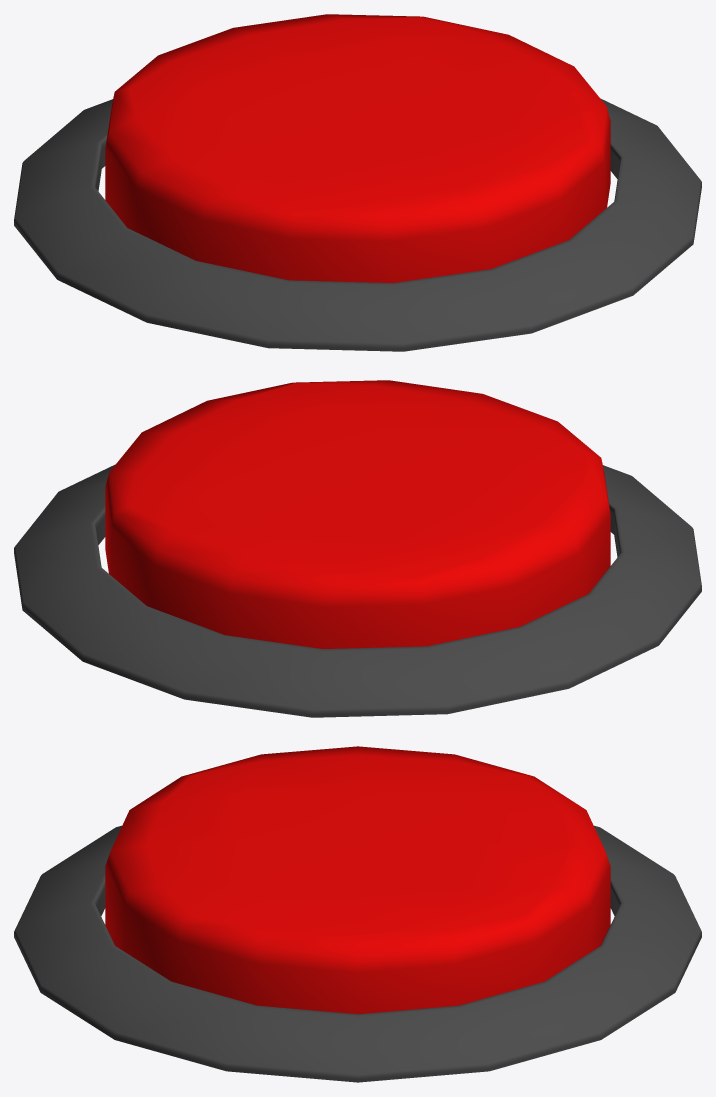
Rendered from Door-button.fbx.
3 views of the same model, one above another, from view 1: azimuth 30°, elevation 25°; view 2: azimuth 150°, elevation 25°; view 3: azimuth 270°, elevation 25° (orthographic).
Parts seen in each view (by area): view 1: Button, Button-side; view 2: Button, Button-side; view 3: Button, Button-side.
Part boxes in pixels (<box>): Button: <box>105,14,610,282</box>; Button-side: <box>14,98,701,351</box>; Button: <box>105,380,610,648</box>; Button-side: <box>14,464,701,717</box>; Button: <box>105,746,610,1014</box>; Button-side: <box>14,825,701,1082</box>.
Bounding box in the file's own units: 35.94 × 5.49 × 35.94.
